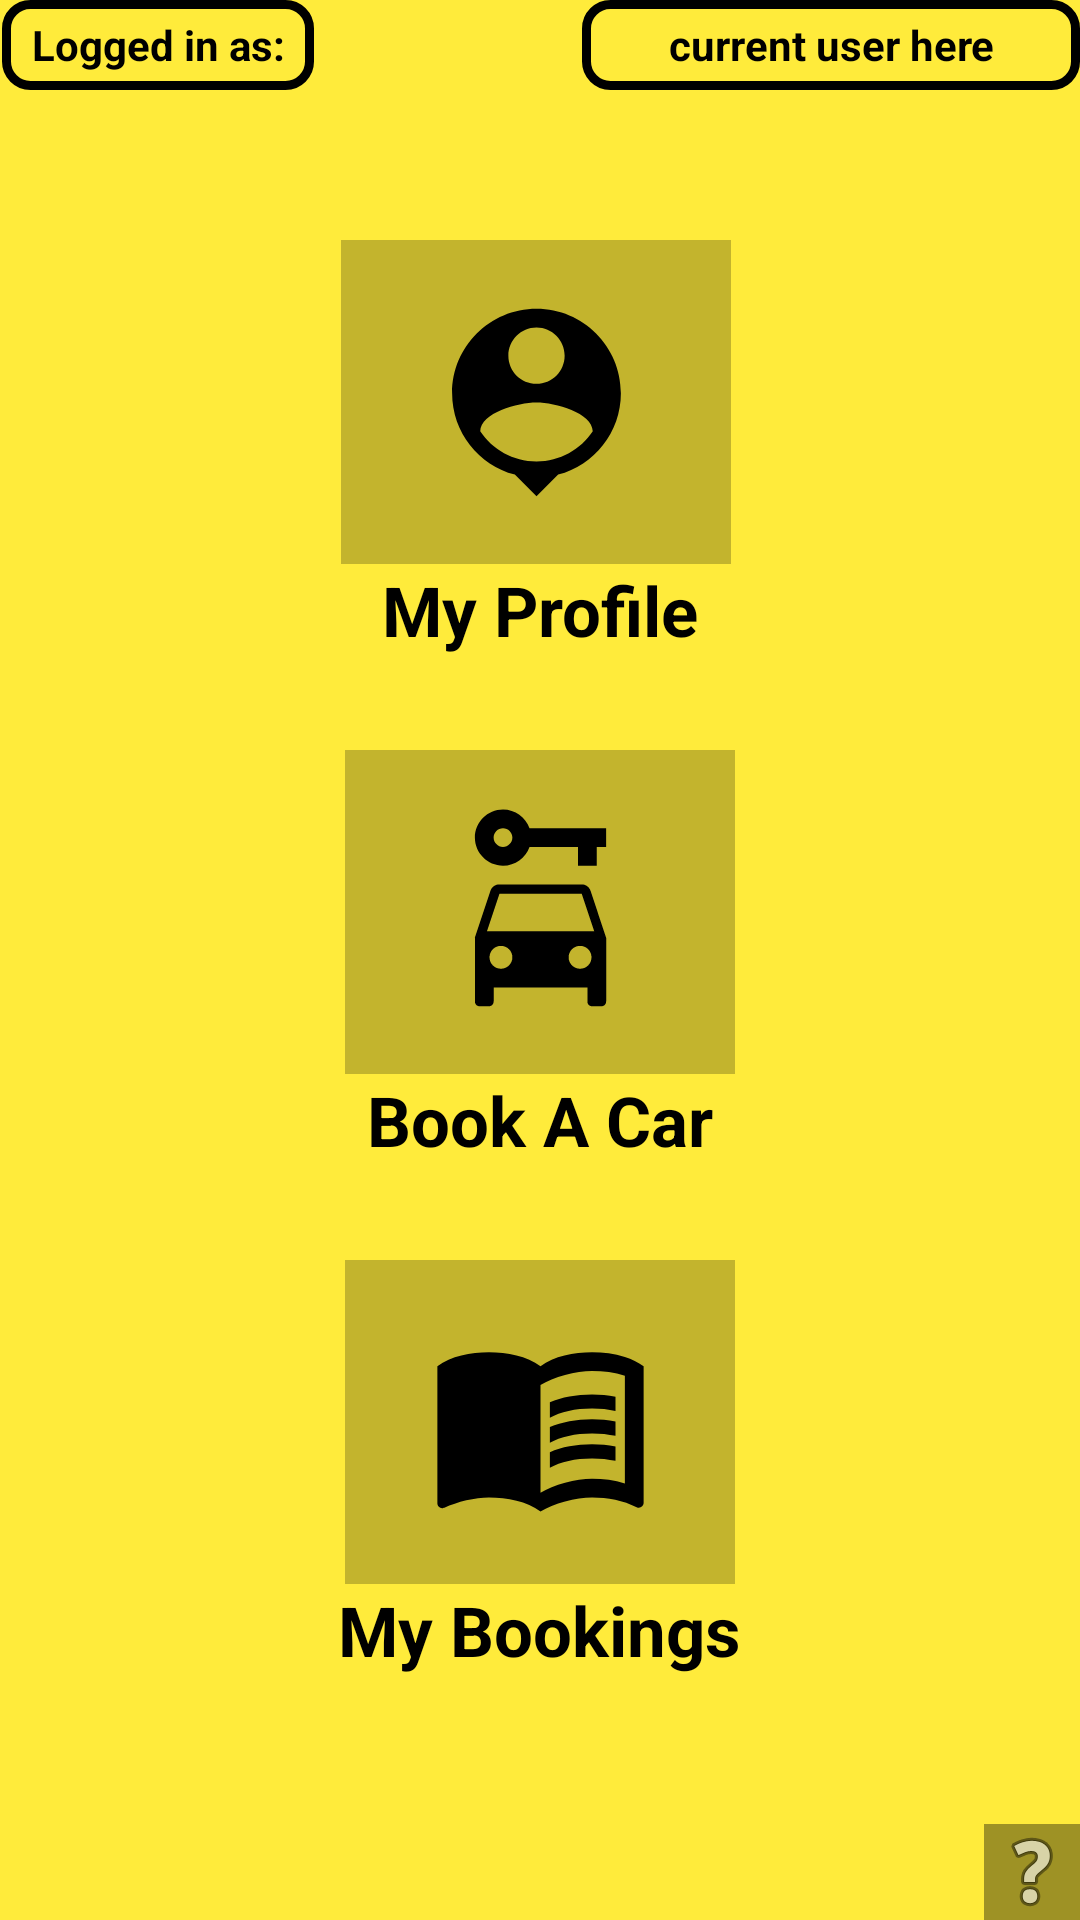

Icon click points for this 1080×1920 phone screenshot, format [x,y]:
help: [1032,1872]
